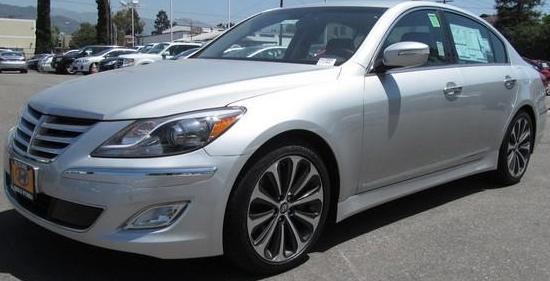front_view: (4, 85, 247, 266)
headlight: (90, 112, 247, 160)
side_glass: (370, 5, 515, 79)
